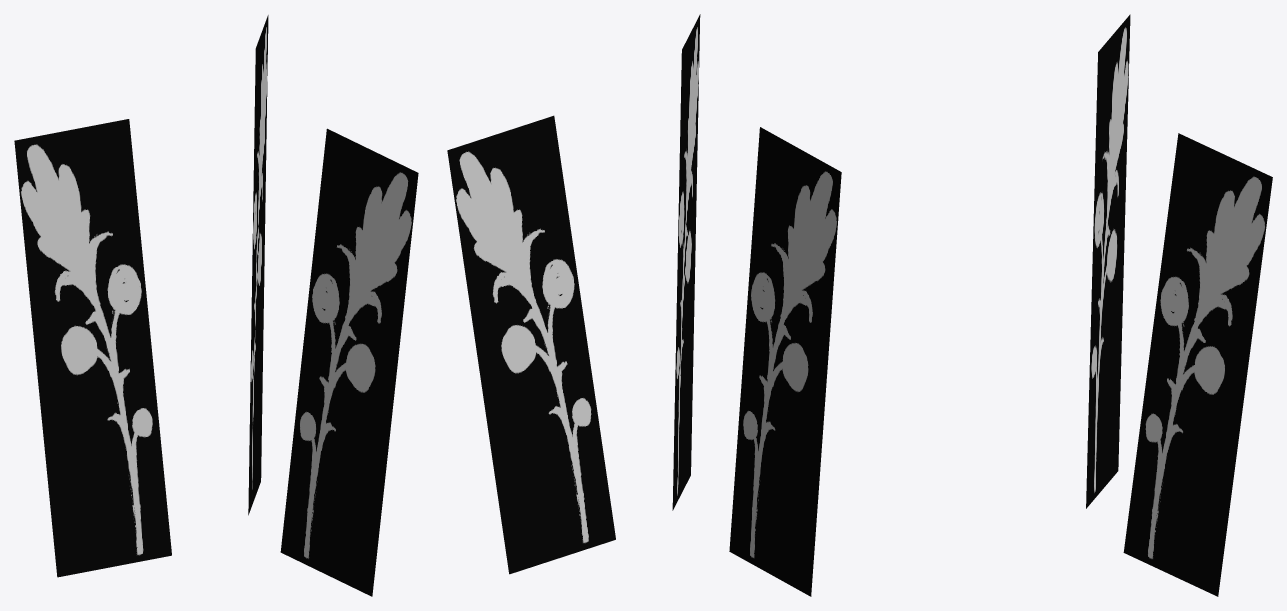
The model's file is grasstall.fbx.
3 renders of one model, left to right at view 1: azimuth 30°, elevation 25°; view 2: azimuth 150°, elevation 25°; view 3: azimuth 270°, elevation 25°, orthographic.
Parts seen in each view (by area): view 1: grass_tall; view 2: grass_tall; view 3: grass_tall.
Part boxes in pixels (x1,y1,x2,y2): grass_tall: (14, 15, 418, 596); grass_tall: (447, 14, 841, 596); grass_tall: (1086, 14, 1272, 596).
Bounding box in the file's own units: 78.56 × 105 × 84.59.
